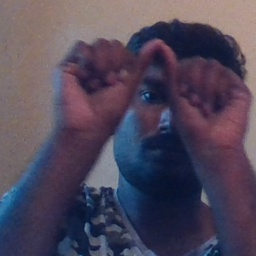A: (68, 31, 229, 140)
